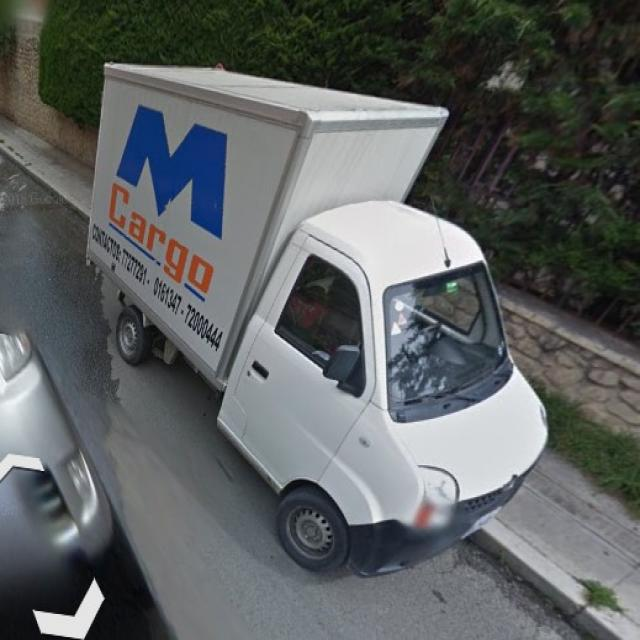cars: (116, 56, 554, 573)
